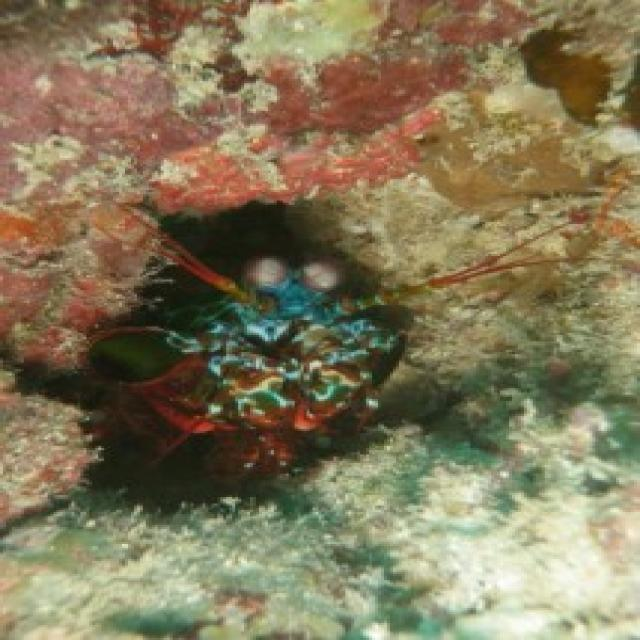lobsters: (62, 103, 640, 534)
